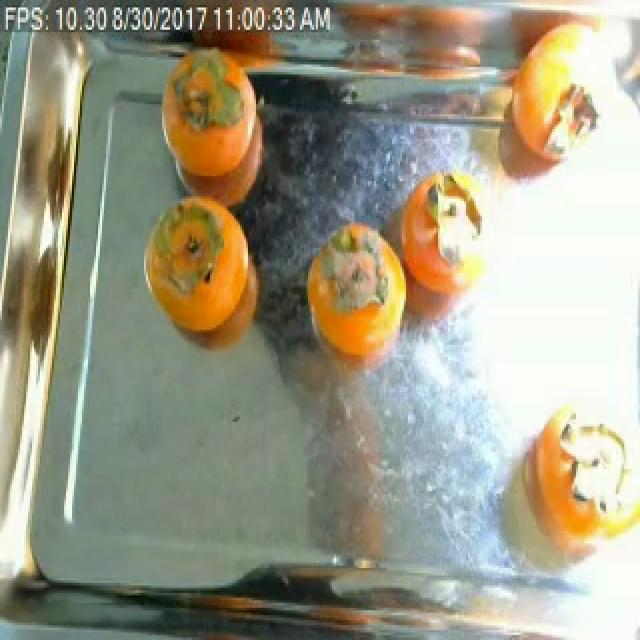Fruit: (130, 184, 278, 372)
